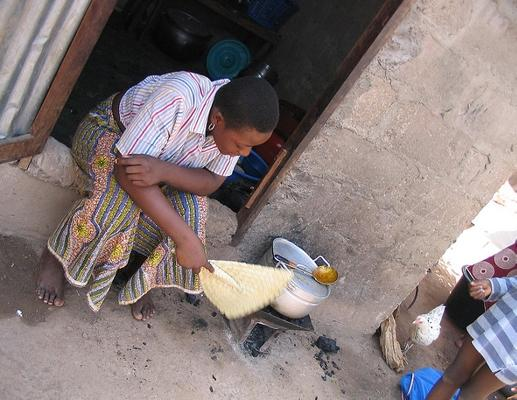person: (40, 70, 286, 327)
